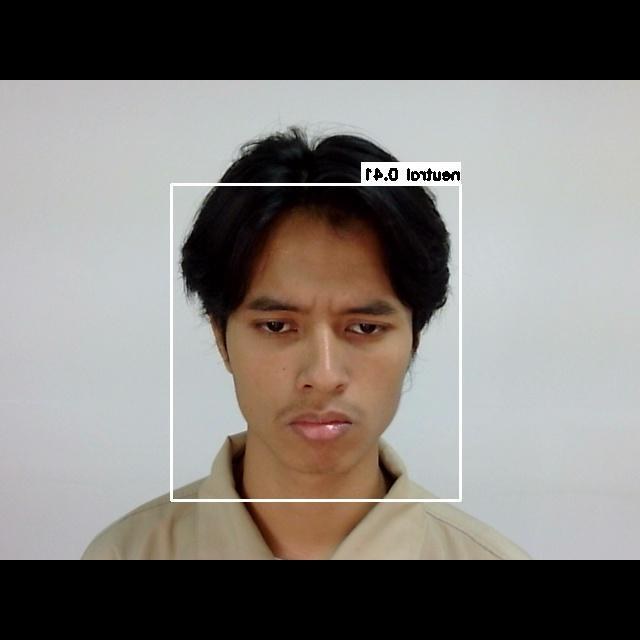Sad: (224, 276, 421, 471)
